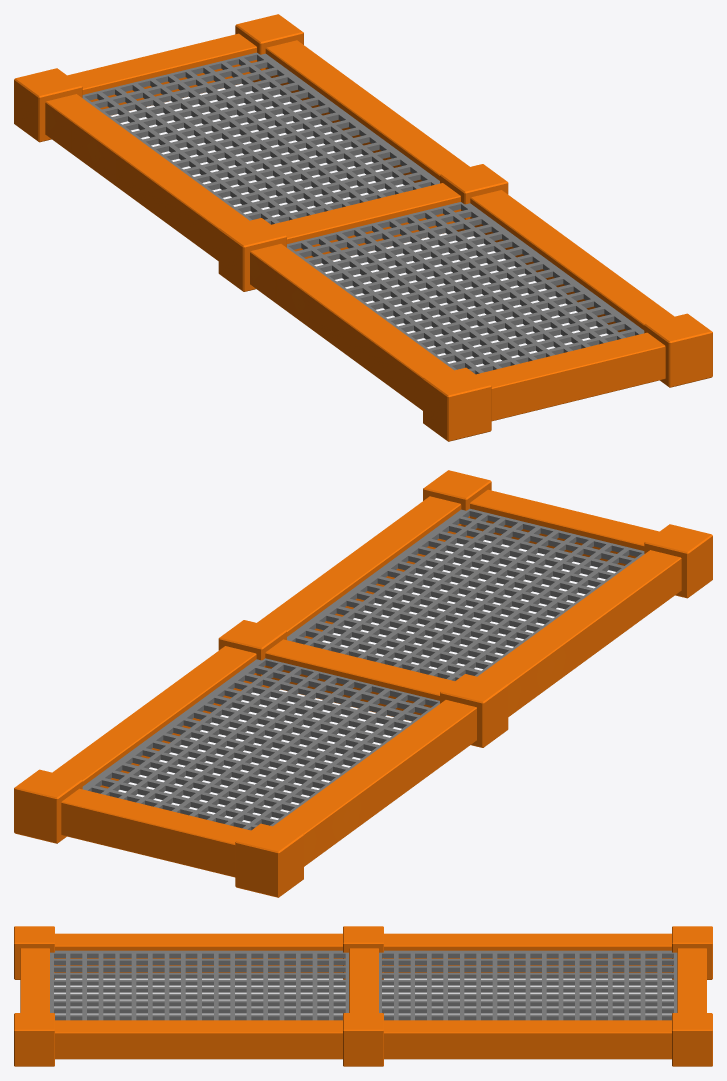
The model's file is BridgeTwoSegmentYellow.fbx.
3 renders of one model, top to bottom at view 1: azimuth 30°, elevation 25°; view 2: azimuth 150°, elevation 25°; view 3: azimuth 270°, elevation 25°, orthographic. The views are drawn at different scales.
Parts seen in each view (by area): view 1: Cube, Grate.001; view 2: Cube, Grate.001; view 3: Cube, Grate.001.
Boxes of the visible parts, bbox=[...] form: Cube: bbox=[14, 14, 712, 441]; Grate.001: bbox=[82, 52, 644, 374]; Cube: bbox=[14, 470, 712, 897]; Grate.001: bbox=[82, 508, 644, 830]; Cube: bbox=[14, 926, 712, 1066]; Grate.001: bbox=[50, 950, 677, 1020].
Size of the model in its own units: 6 by 1 by 17.
